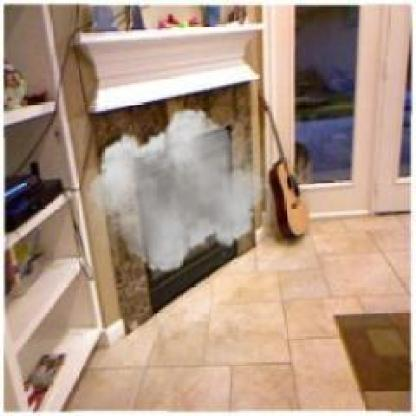Smoke: (86, 102, 269, 279)
